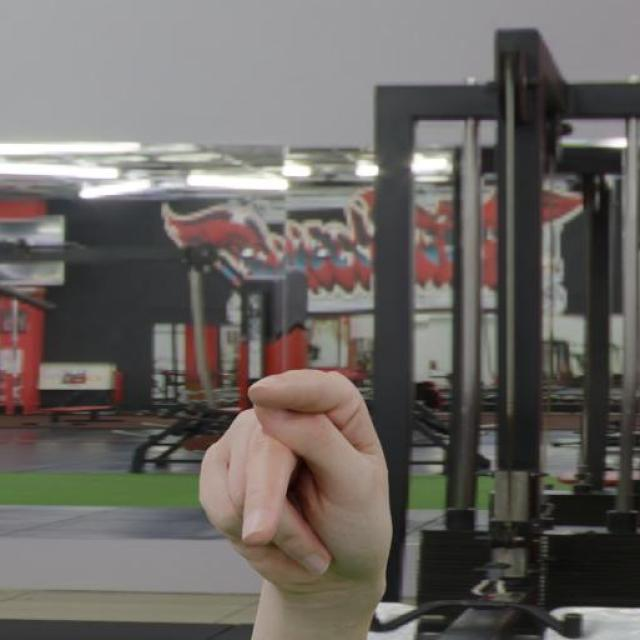P: (160, 346, 428, 640)
